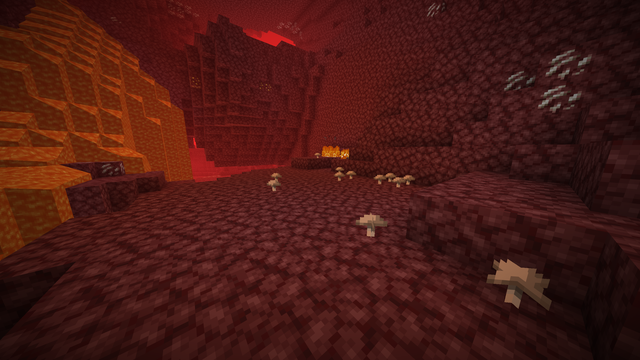nethergold: (257, 82, 271, 92), (190, 76, 201, 87)
quartz: (502, 49, 593, 113), (166, 1, 200, 20), (276, 18, 303, 37), (98, 161, 125, 176), (423, 2, 445, 17)
